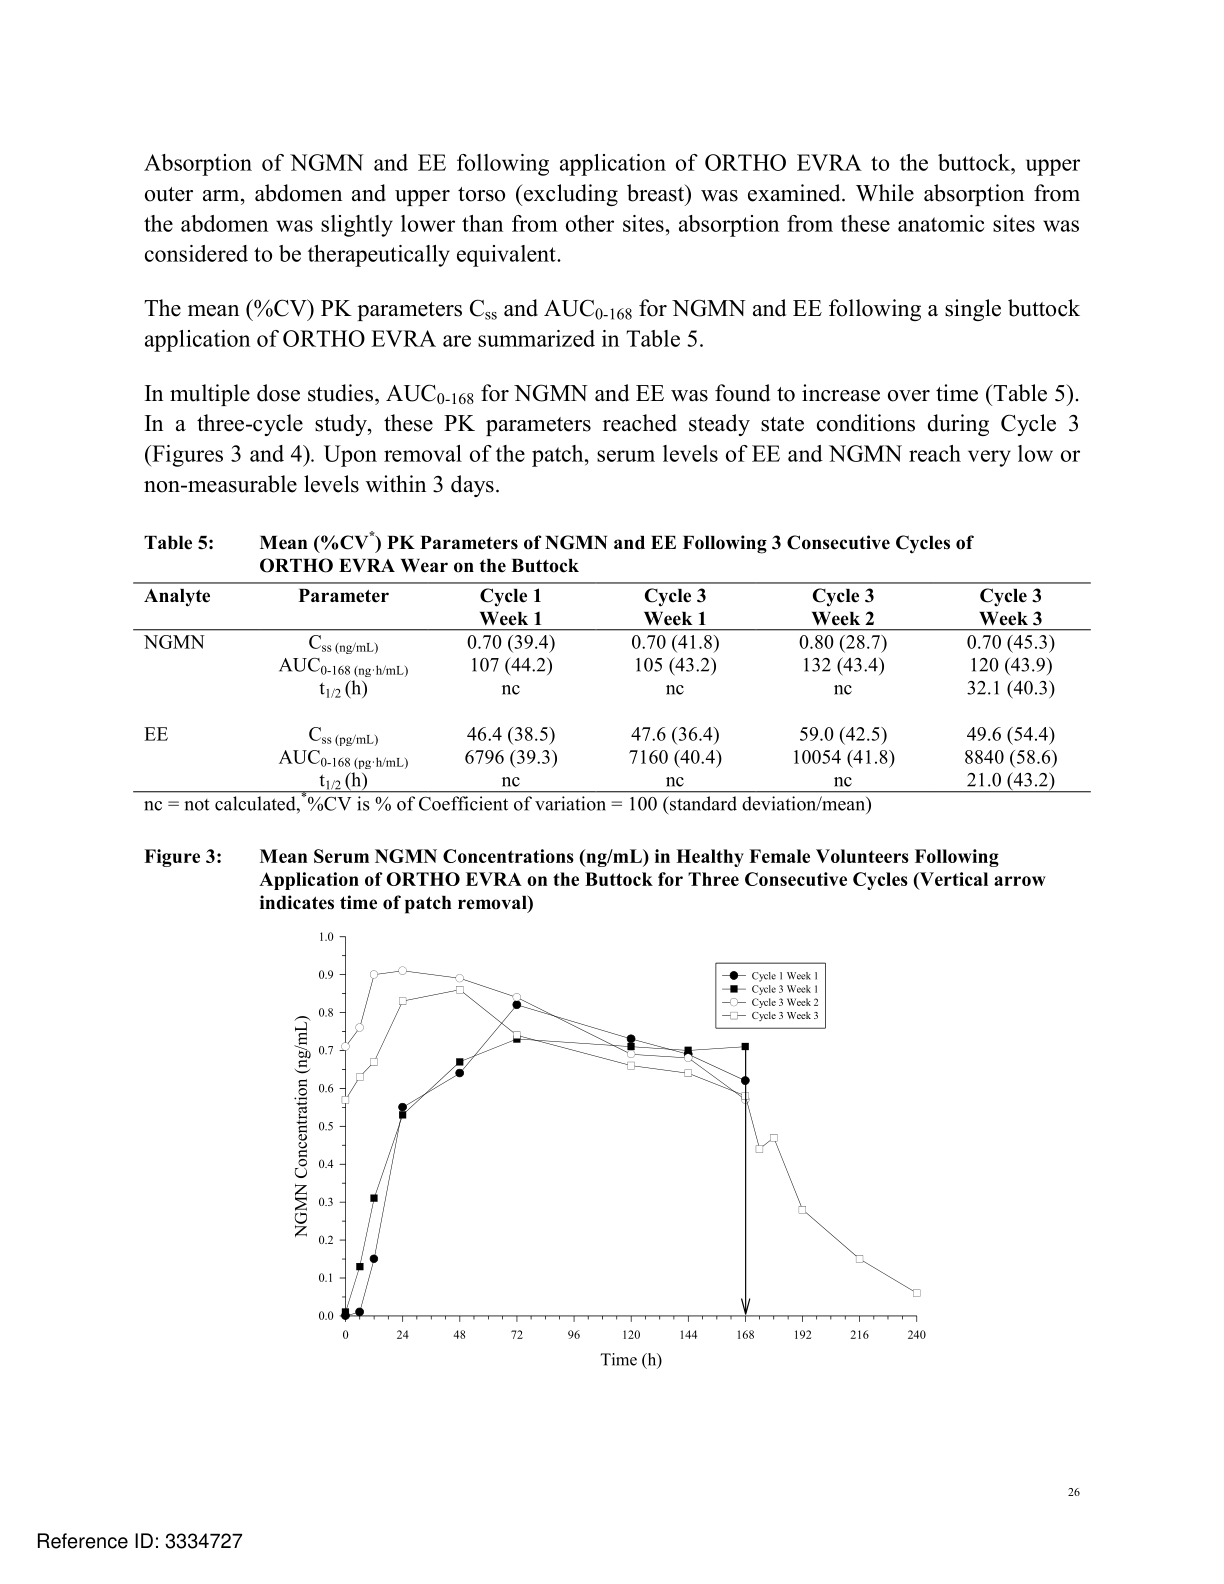partial_lined: (131, 581, 1092, 795)
